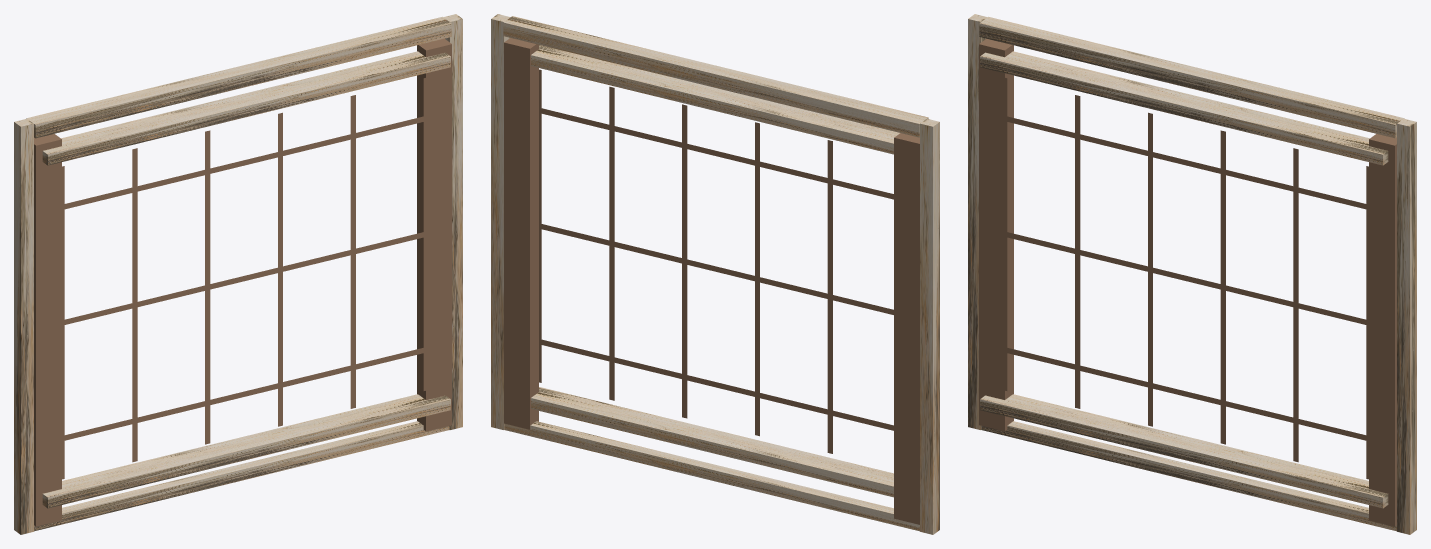
Rendered from facade_compound_gate_upper.glb.
3 views of the same model, side by side, from view 1: azimuth 30°, elevation 25°; view 2: azimuth 150°, elevation 25°; view 3: azimuth 330°, elevation 25° (orthographic).
Parts seen in each view (by area): view 1: lod1_facade_compound_gate_upper__VVK_concrete_CC0, lod1_facade_compound_gate_upper__VVK_masonry; view 2: lod1_facade_compound_gate_upper__VVK_concrete_CC0, lod1_facade_compound_gate_upper__VVK_masonry; view 3: lod1_facade_compound_gate_upper__VVK_concrete_CC0, lod1_facade_compound_gate_upper__VVK_masonry.
Boxes of the visible parts, bbox=[...] form: lod1_facade_compound_gate_upper__VVK_concrete_CC0: bbox=[14, 14, 462, 534]; lod1_facade_compound_gate_upper__VVK_masonry: bbox=[34, 38, 451, 526]; lod1_facade_compound_gate_upper__VVK_concrete_CC0: bbox=[491, 14, 939, 534]; lod1_facade_compound_gate_upper__VVK_masonry: bbox=[504, 38, 919, 524]; lod1_facade_compound_gate_upper__VVK_concrete_CC0: bbox=[968, 14, 1416, 534]; lod1_facade_compound_gate_upper__VVK_masonry: bbox=[979, 38, 1396, 526].
Bounding box in the file's own units: 3.4 × 3 × 0.198.
2 materials, 1 textured.
